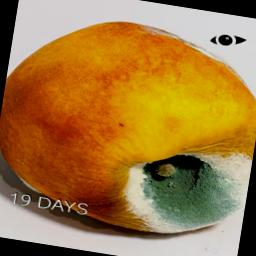Peach Rotten: (0, 1, 256, 243)
